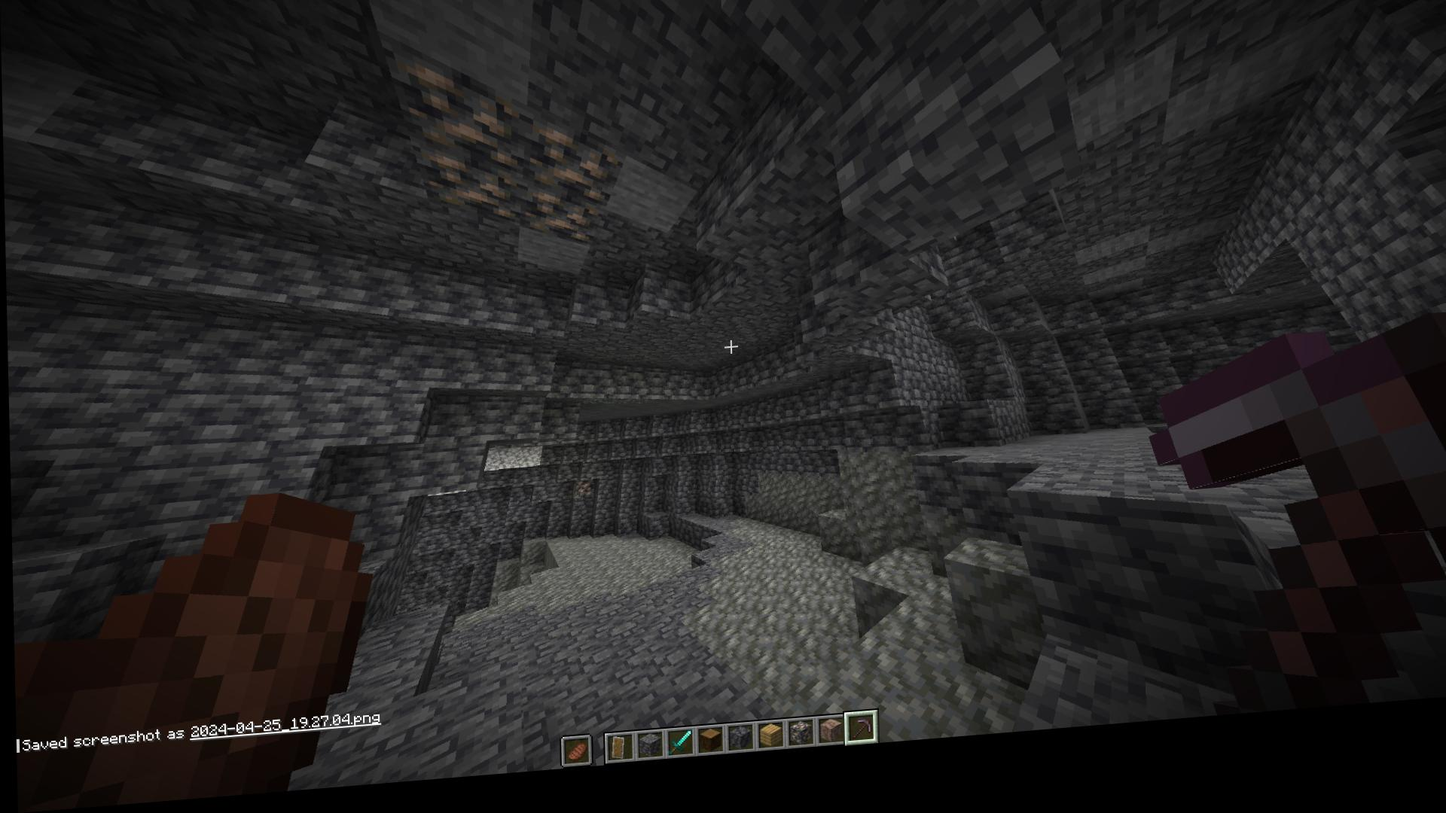iron ore: (399, 67, 530, 178), (526, 130, 613, 210), (429, 159, 518, 233), (517, 197, 596, 262), (571, 489, 590, 508)
